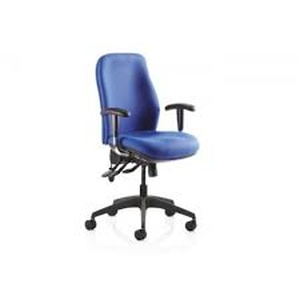chair: (85, 53, 201, 241)
